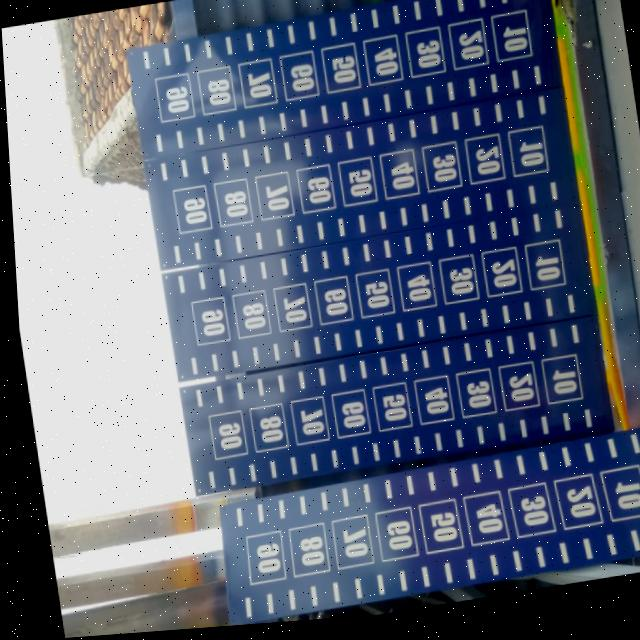water-meter: (150, 305, 619, 510), (197, 413, 640, 627), (141, 196, 612, 389), (127, 88, 587, 276), (116, 0, 574, 161)
